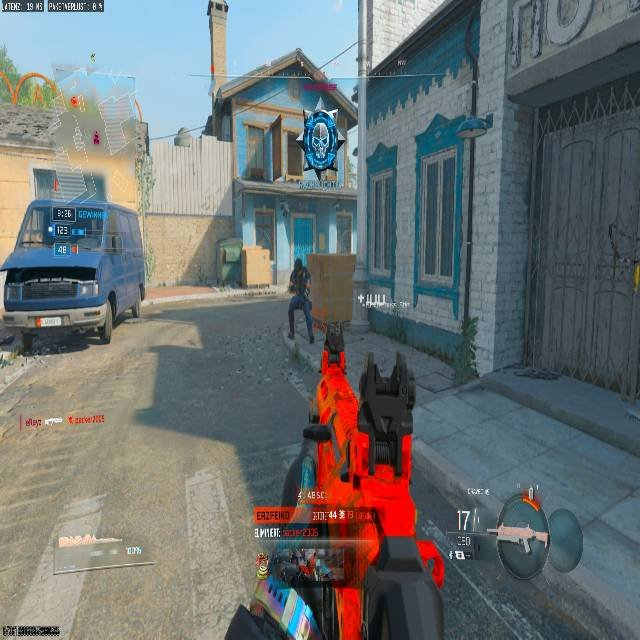head: (292, 258, 307, 275), (293, 258, 303, 269)
player: (258, 546, 332, 639), (286, 258, 315, 341)
